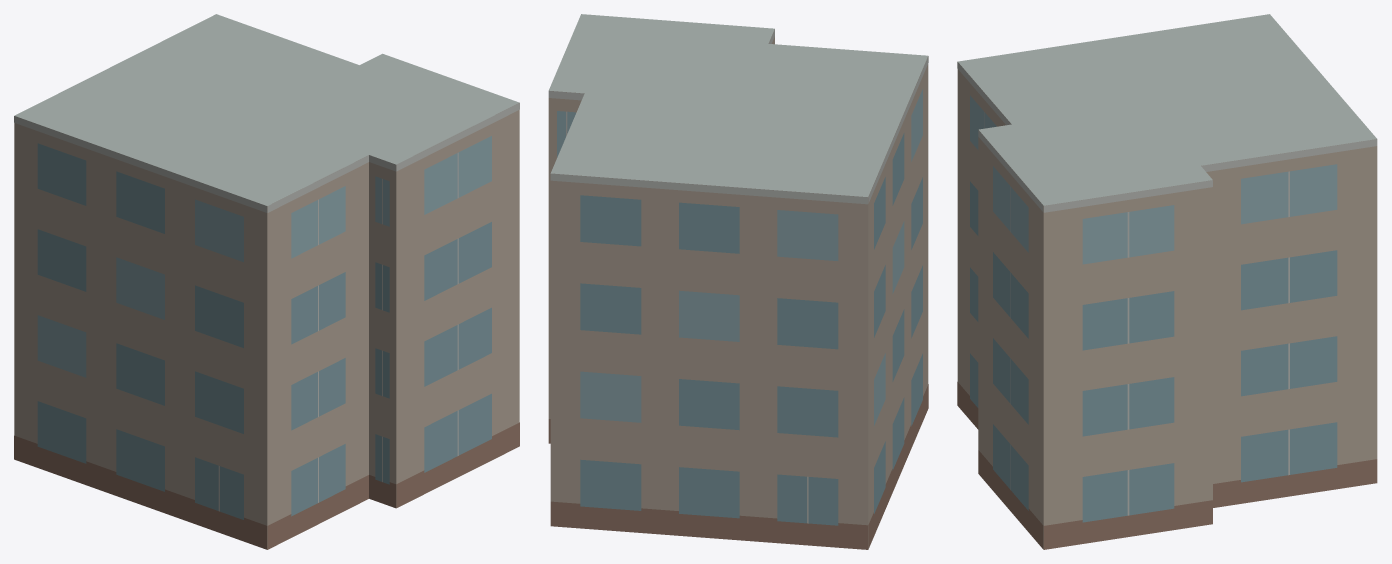
File: survey-upis-32904721.glb
3 renders of one model, left to right at view 1: azimuth 30°, elevation 25°; view 2: azimuth 150°, elevation 25°; view 3: azimuth 270°, elevation 25°, orthographic. The views are drawn at different scales.
Parts seen in each view (by area): view 1: survey-upis-32904721.tmp; view 2: survey-upis-32904721.tmp; view 3: survey-upis-32904721.tmp.
Boxes of the visible parts, <box> form: survey-upis-32904721.tmp: <box>14,14,519,549</box>; survey-upis-32904721.tmp: <box>548,14,928,549</box>; survey-upis-32904721.tmp: <box>957,14,1377,549</box>.
Size of the model in its own units: 14.3 by 11.95 by 13.22.
